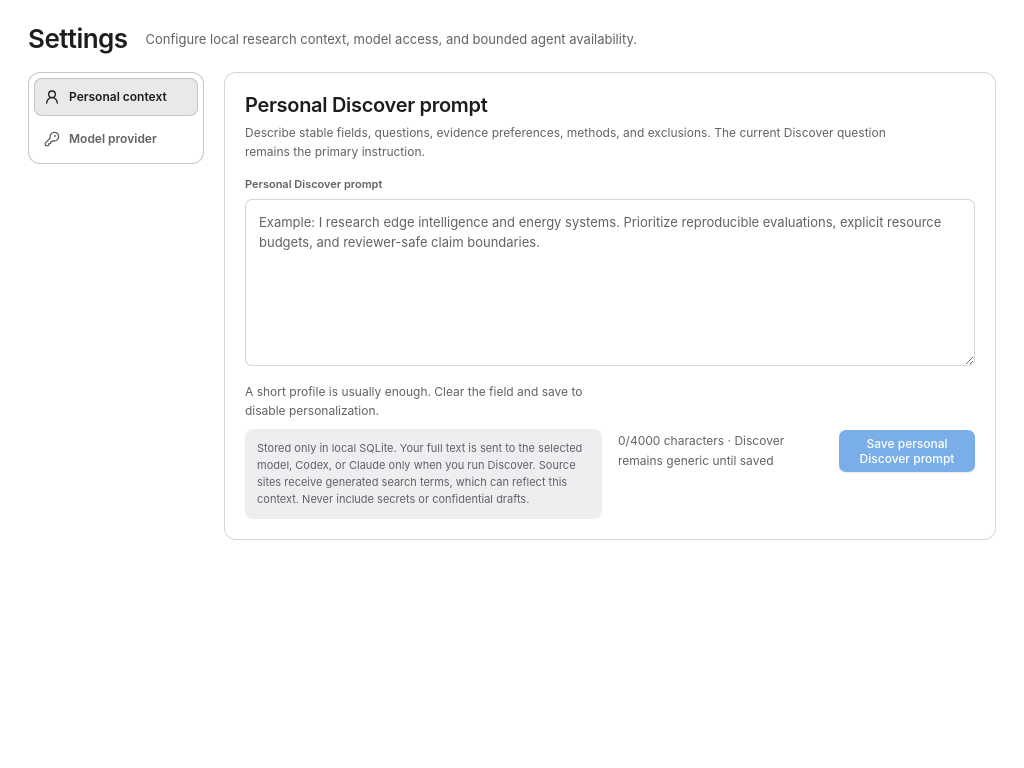
Test: SettingsView › separates personal context and provider settings into accessible panes
The width and height of the screenshot is (1024, 768).
Check: the heading "Settings" is shown, box [28, 24, 128, 54]
Click the tab "Model provider": (116,139) [34, 120, 198, 158]
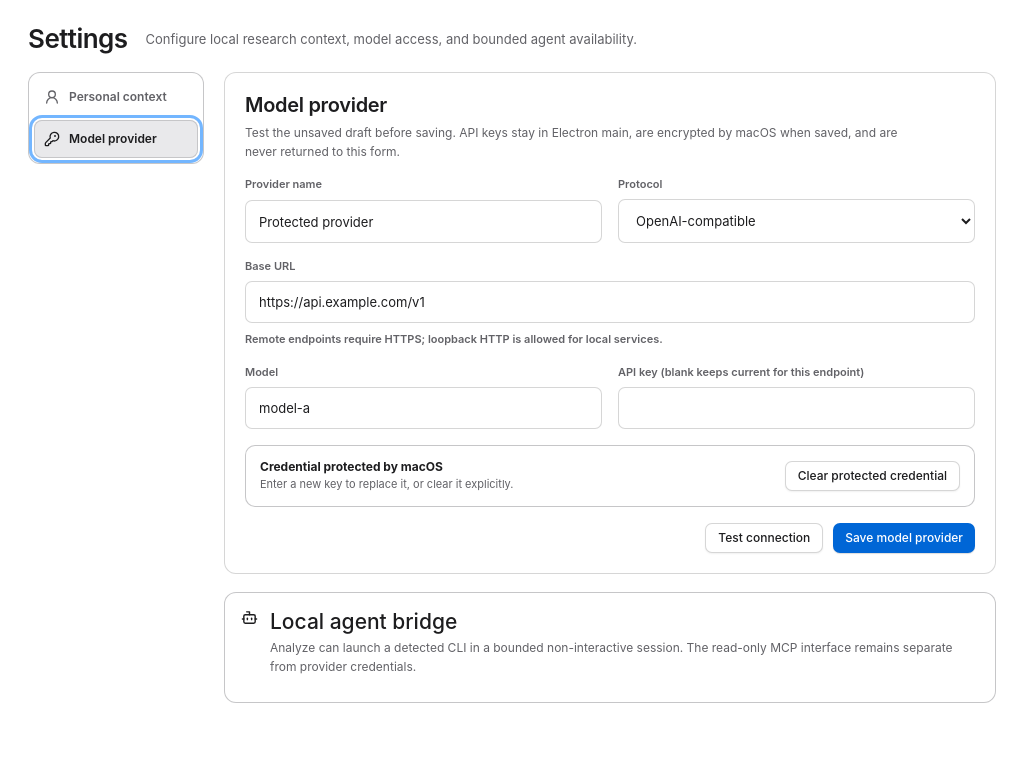
Check: the heading "Model provider" is shown, box [245, 93, 387, 117]
